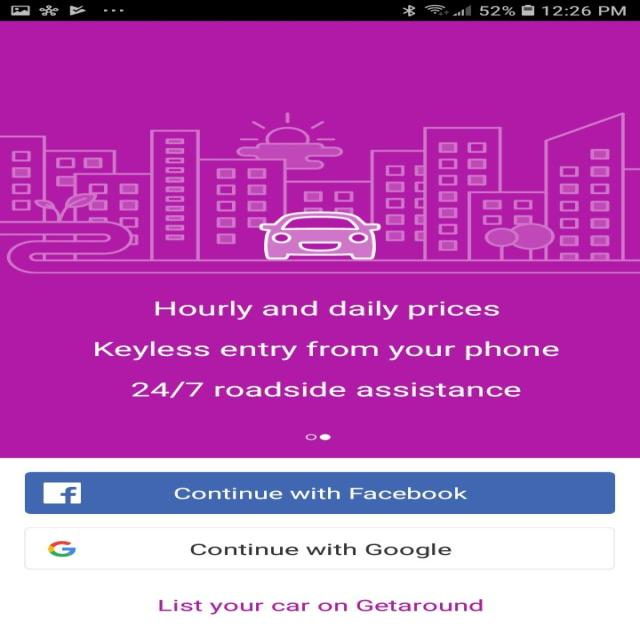Image: (0, 111, 639, 275)
Text: (95, 340, 559, 360), (154, 300, 498, 320), (130, 381, 520, 398), (158, 598, 483, 615)
TextButton: (23, 526, 614, 570), (24, 471, 615, 514)
